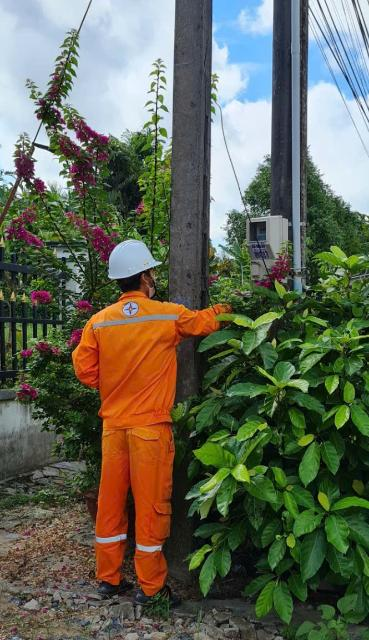helmet: (96, 233, 173, 285)
shoes: (130, 576, 199, 640), (91, 569, 132, 602)
